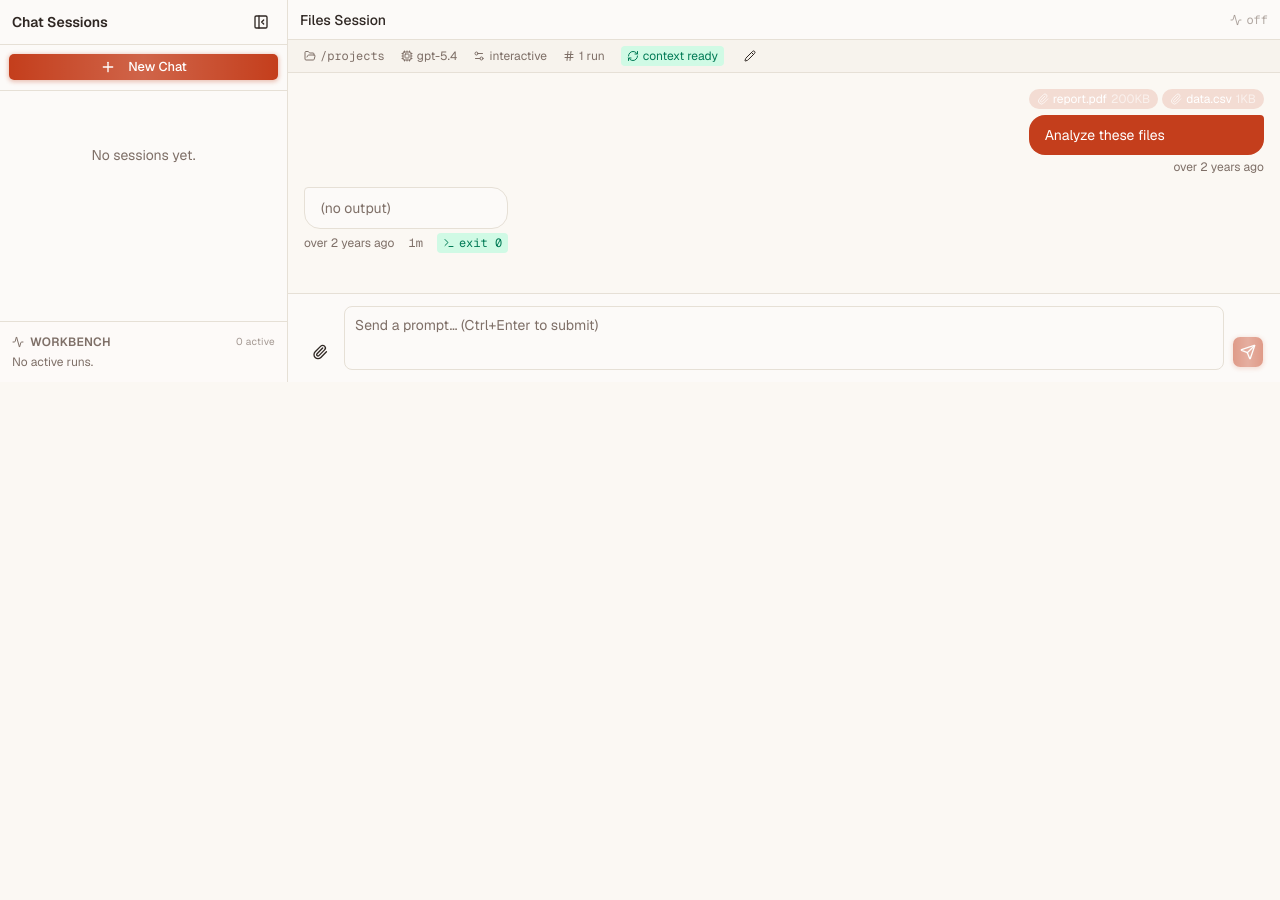
Test: SessionCreateDialog — pre-populated from active host › pre-populates host from the active host when dialog opens with LOCAL_HOST active
Click the button with aria-label "New chat session" at (144, 67), box [8,53,279,81]
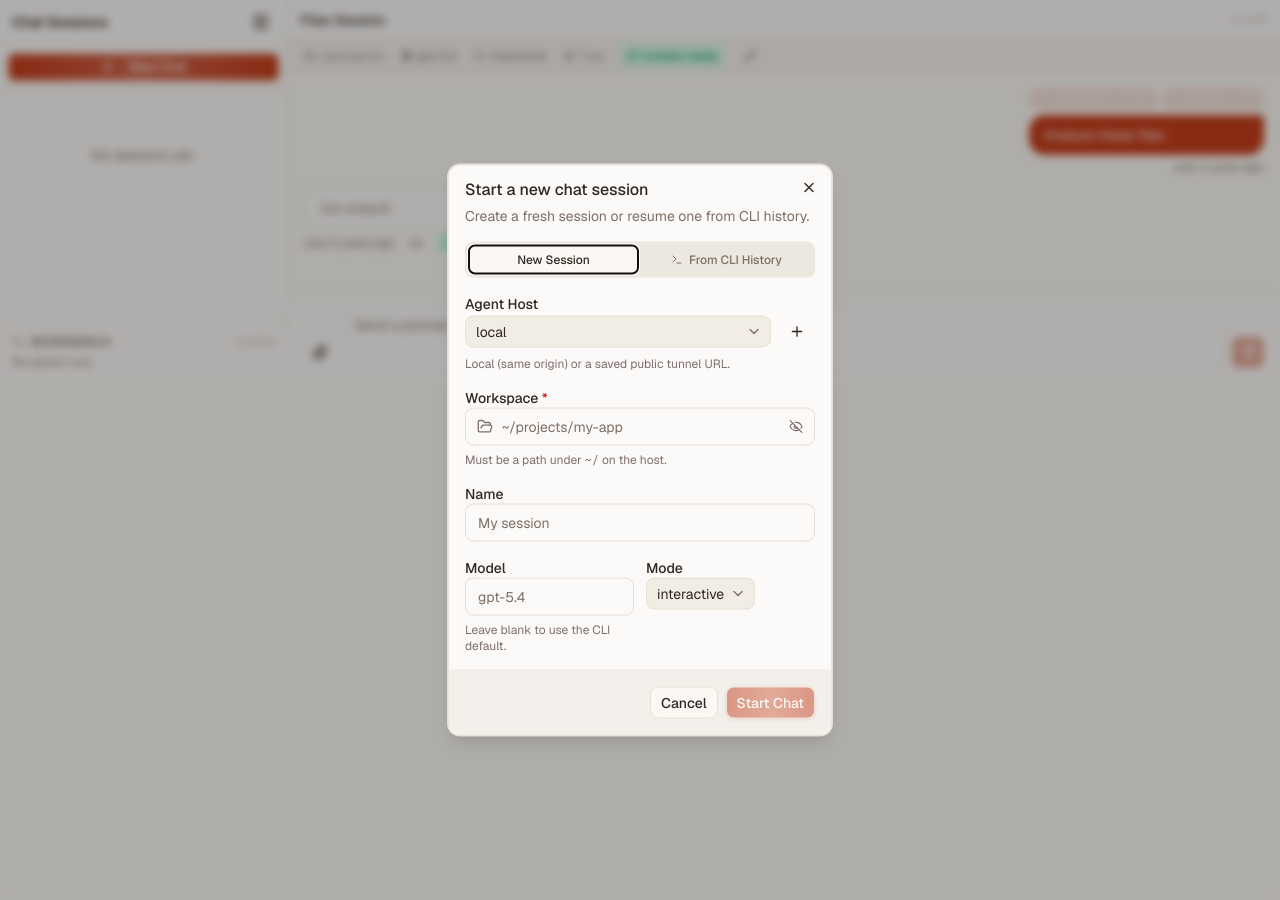
Expected: the dropdown named "Agent host" is shown, [465,316,771,348]
